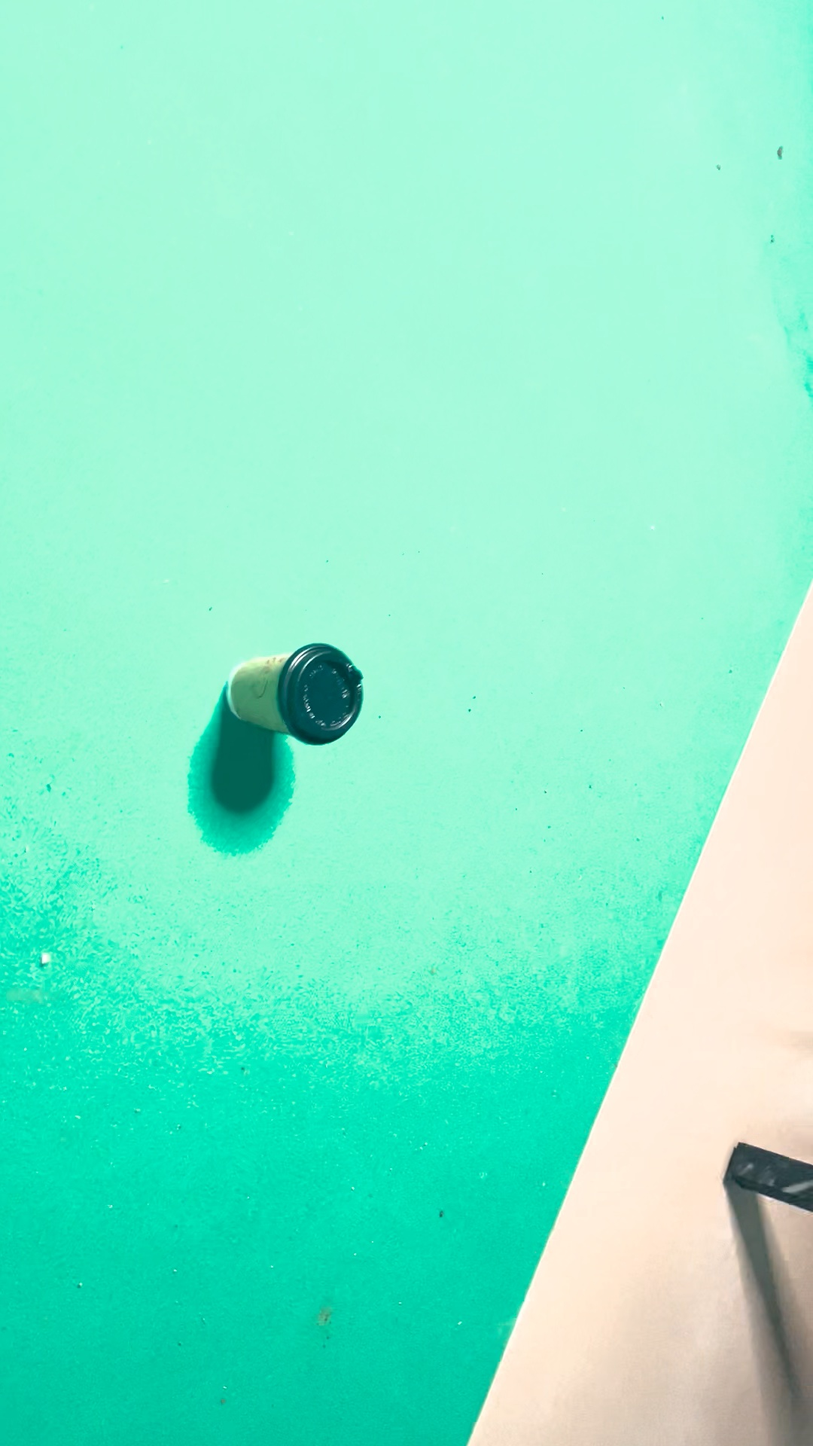cup: (414, 371, 501, 791)
